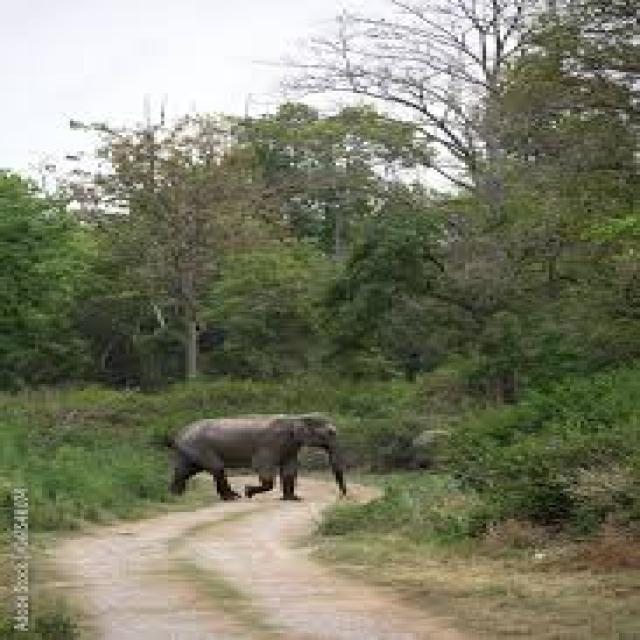Elephant: (146, 402, 380, 514)
